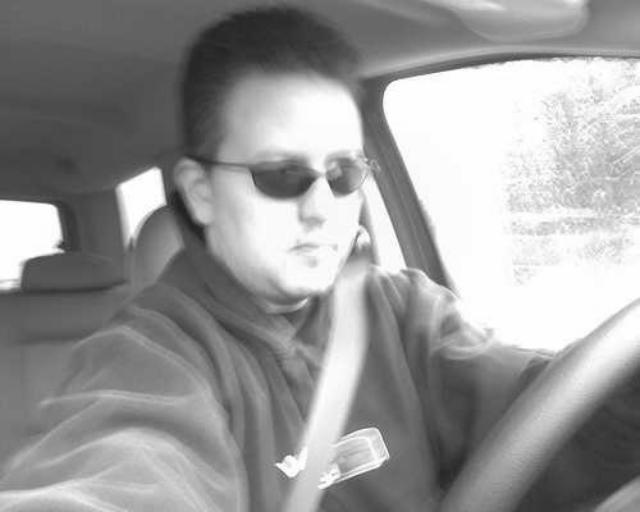Seatbelt: (274, 232, 374, 512)
